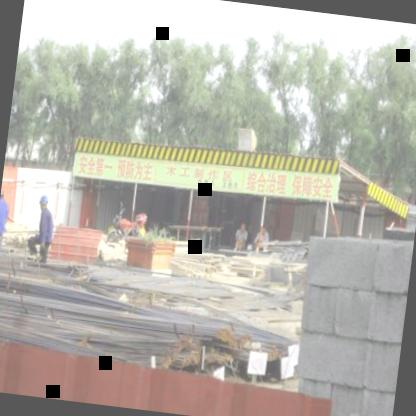helmet: (38, 192, 50, 209), (0, 188, 4, 199)
